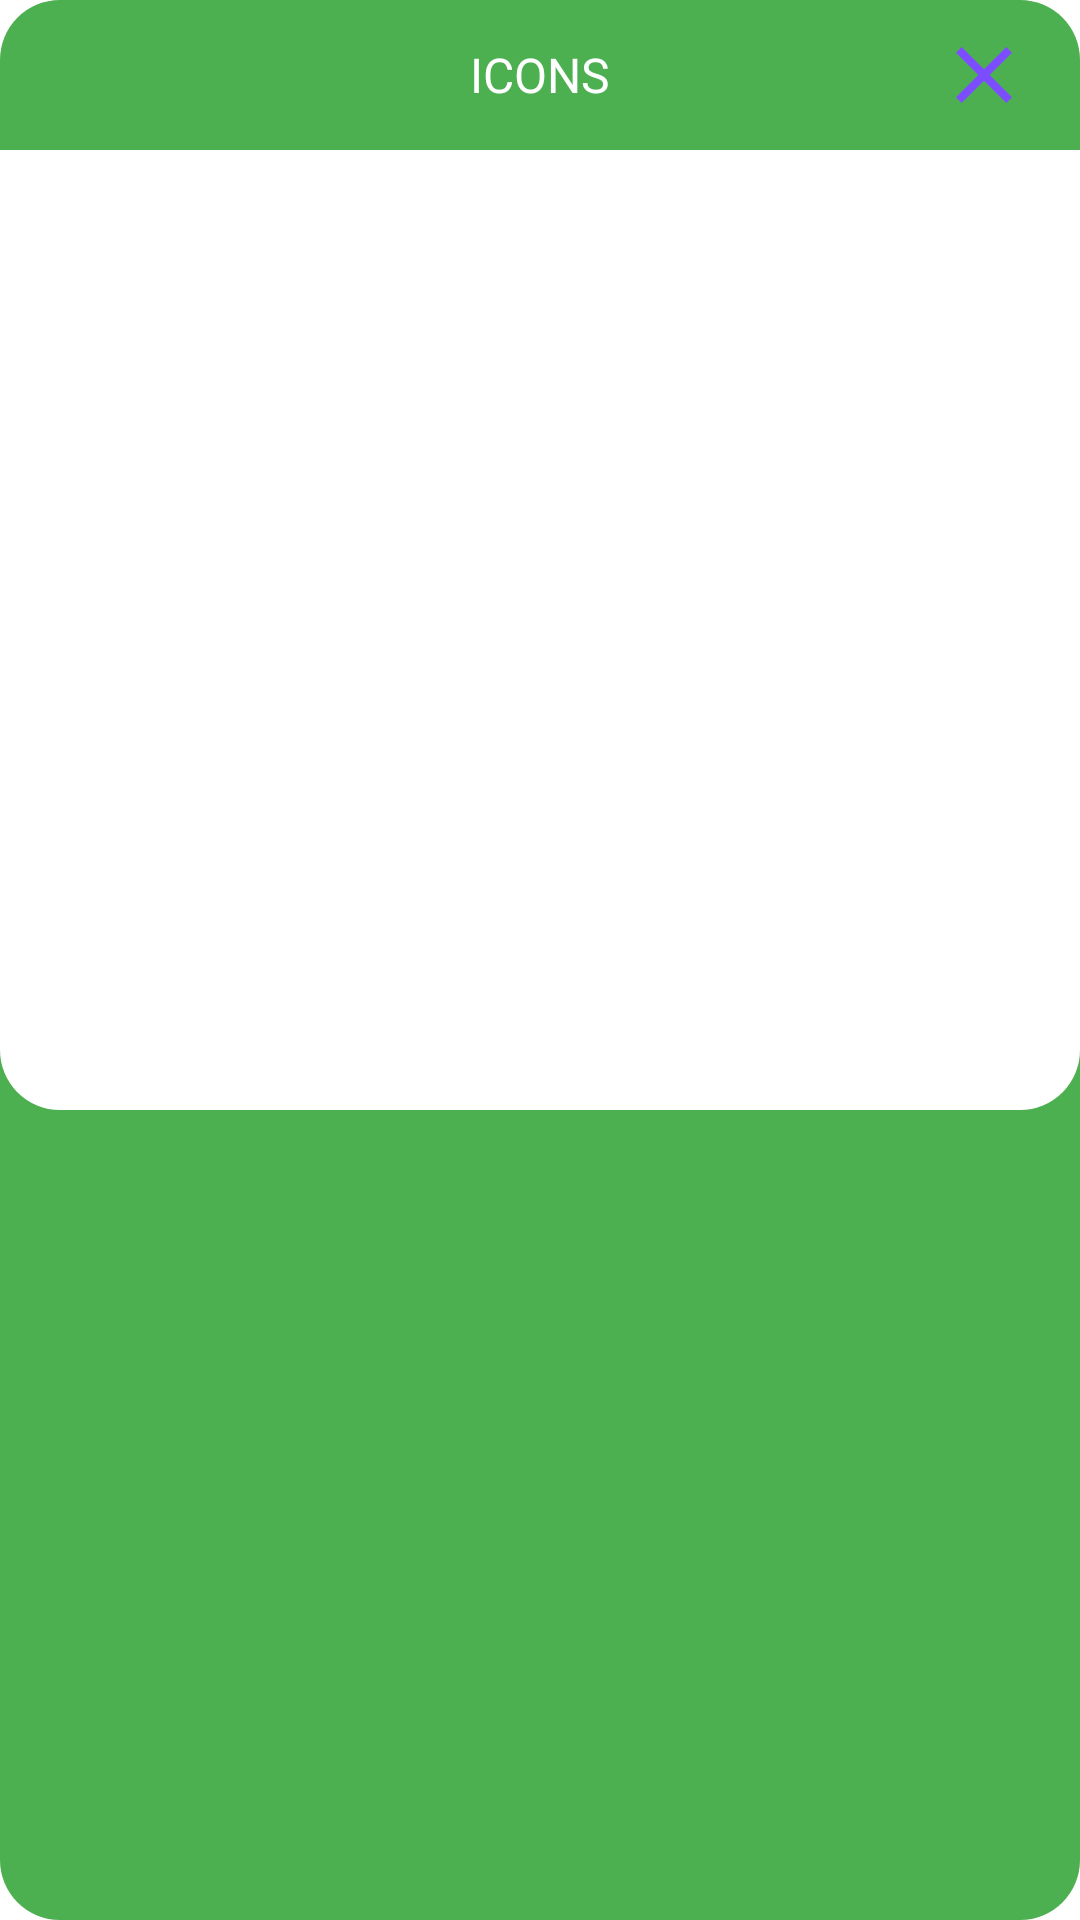

Where to tap for icons on this 1080px x 1920px app screen, as (x=x, y=y):
close: (x=984, y=75)
